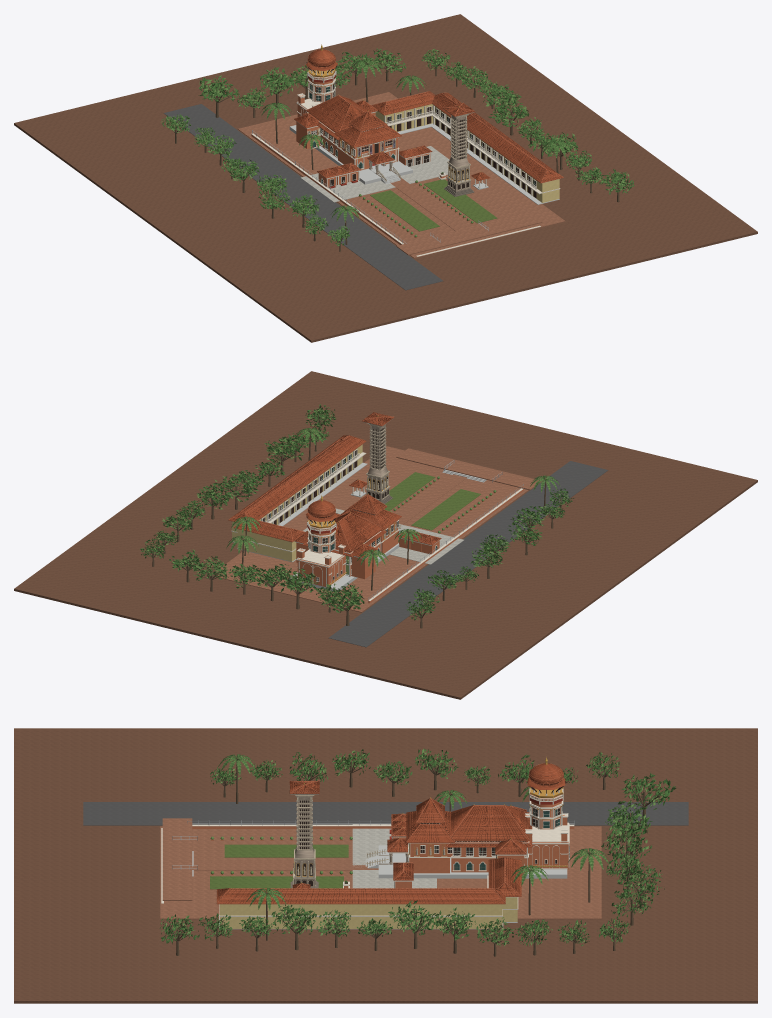
The model's file is shantadurga-kunkallikarin.glb.
3 renders of one model, top to bottom at view 1: azimuth 30°, elevation 25°; view 2: azimuth 150°, elevation 25°; view 3: azimuth 270°, elevation 25°, orthographic. The views are drawn at different scales.
Visible parts, largest first — view 1: Courtyard, approach and adjoining road / Goan laterite earth, Courtyard, approach and adjoining road / Courtyard red pavin, Courtyard landscaping and tropical surroundings / Tropical f, Courtyard, approach and adjoining road / Asphalt road, Courtyard landscaping and tropical surroundings / Foliage su, Surrounding agrashala gallery / Mangalore terracotta tiles (×2), Courtyard landscaping and tropical surroundings / Tree trunk, Courtyard, approach and adjoining road / Courtyard lawns, Courtyard, approach and adjoining road / Stone paved apron a, Surrounding agrashala gallery / Terracotta ridge caps, Hall cornices, gallery skirt and continuous high hipped roof, Surrounding agrashala gallery / Ivory painted mouldings (+8 smaller); view 2: Courtyard, approach and adjoining road / Goan laterite earth, Courtyard, approach and adjoining road / Courtyard red pavin, Courtyard landscaping and tropical surroundings / Tropical f, Courtyard, approach and adjoining road / Asphalt road, Courtyard landscaping and tropical surroundings / Foliage su, Surrounding agrashala gallery / Mangalore terracotta tiles (×2), Courtyard landscaping and tropical surroundings / Tree trunk, Courtyard, approach and adjoining road / Courtyard lawns, Surrounding agrashala gallery / Agrashala cream walls (×2), Surrounding agrashala gallery / Terracotta ridge caps, Hall cornices, gallery skirt and continuous high hipped roof, Surrounding agrashala gallery / Ivory painted mouldings (+5 smaller); view 3: Courtyard, approach and adjoining road / Goan laterite earth, Courtyard, approach and adjoining road / Courtyard red pavin, Courtyard landscaping and tropical surroundings / Tropical f, Courtyard, approach and adjoining road / Asphalt road, Courtyard landscaping and tropical surroundings / Foliage su, Surrounding agrashala gallery / Mangalore terracotta tiles (×2), Surrounding agrashala gallery / Agrashala cream walls, Courtyard landscaping and tropical surroundings / Tree trunk, Hall cornices, gallery skirt and continuous high hipped roof (×2), Surrounding agrashala gallery / Terracotta ridge caps (×2), Courtyard, approach and adjoining road / Courtyard lawns, Courtyard, approach and adjoining road / Stone paved apron a (+13 smaller).
Boxes of the visible parts, bbox=[...] form: Courtyard, approach and adjoining road / Goan laterite earth: bbox=[14, 14, 757, 342]; Courtyard, approach and adjoining road / Courtyard red pavin: bbox=[238, 92, 565, 258]; Courtyard landscaping and tropical surroundings / Tropical f: bbox=[162, 48, 634, 245]; Courtyard, approach and adjoining road / Asphalt road: bbox=[163, 104, 443, 290]; Courtyard landscaping and tropical surroundings / Foliage su: bbox=[161, 48, 632, 246]; Surrounding agrashala gallery / Mangalore terracotta tiles (×2): bbox=[371, 91, 562, 182]; Courtyard landscaping and tropical surroundings / Tree trunk: bbox=[167, 53, 628, 251]; Courtyard, approach and adjoining road / Courtyard lawns: bbox=[370, 179, 497, 231]; Courtyard, approach and adjoining road / Stone paved apron a: bbox=[300, 146, 449, 202]; Surrounding agrashala gallery / Terracotta ridge caps: bbox=[432, 92, 563, 183]; Hall cornices, gallery skirt and continuous high hipped roof: bbox=[303, 95, 366, 139]; Surrounding agrashala gallery / Ivory painted mouldings: bbox=[431, 105, 560, 195]; Courtyard, approach and adjoining road / Goan laterite earth: bbox=[14, 371, 757, 699]; Courtyard, approach and adjoining road / Courtyard red pavin: bbox=[212, 446, 541, 612]; Courtyard landscaping and tropical surroundings / Tropical f: bbox=[140, 404, 574, 620]; Courtyard, approach and adjoining road / Asphalt road: bbox=[328, 461, 608, 647]; Courtyard landscaping and tropical surroundings / Foliage su: bbox=[141, 406, 572, 619]; Surrounding agrashala gallery / Mangalore terracotta tiles (×2): bbox=[229, 435, 365, 541]; Courtyard landscaping and tropical surroundings / Tree trunk: bbox=[146, 409, 567, 628]; Courtyard, approach and adjoining road / Courtyard lawns: bbox=[384, 472, 480, 530]; Surrounding agrashala gallery / Agrashala cream walls (×2): bbox=[232, 444, 362, 561]; Surrounding agrashala gallery / Terracotta ridge caps: bbox=[228, 435, 365, 522]; Hall cornices, gallery skirt and continuous high hipped roof: bbox=[303, 513, 385, 556]; Surrounding agrashala gallery / Ivory painted mouldings: bbox=[231, 449, 366, 532]; Courtyard, approach and adjoining road / Goan laterite earth: bbox=[14, 728, 757, 1003]; Courtyard, approach and adjoining road / Courtyard red pavin: bbox=[160, 818, 601, 919]; Courtyard landscaping and tropical surroundings / Tropical f: bbox=[159, 748, 676, 946]; Courtyard, approach and adjoining road / Asphalt road: bbox=[83, 802, 688, 825]; Courtyard landscaping and tropical surroundings / Foliage su: bbox=[160, 749, 675, 945]; Surrounding agrashala gallery / Mangalore terracotta tiles (×2): bbox=[216, 858, 521, 903]; Surrounding agrashala gallery / Agrashala cream walls: bbox=[219, 904, 502, 928]; Courtyard landscaping and tropical surroundings / Tree trunk: bbox=[167, 755, 664, 956]; Hall cornices, gallery skirt and continuous high hipped roof (×2): bbox=[446, 805, 532, 847]; Surrounding agrashala gallery / Terracotta ridge caps (×2): bbox=[217, 857, 521, 904]; Courtyard, approach and adjoining road / Courtyard lawns: bbox=[210, 844, 348, 889]; Courtyard, approach and adjoining road / Stone paved apron a: bbox=[352, 824, 436, 888].
Size of the model in its own units: 130 by 24.61 by 150.
33 materials, 22 textured.
